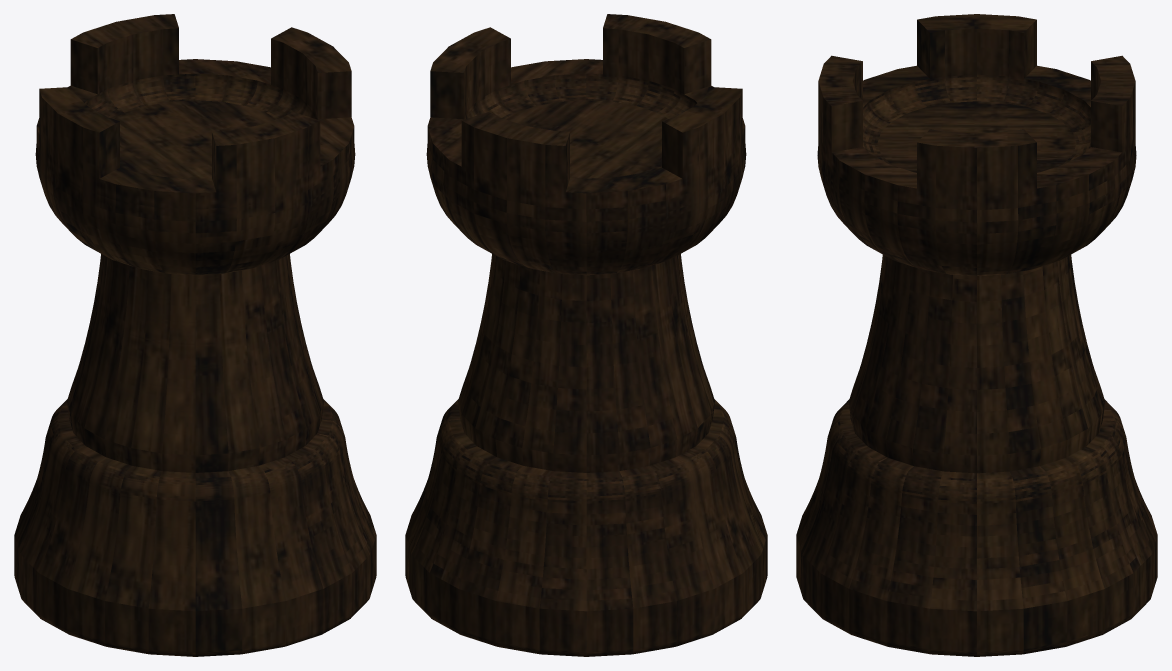
Rendered from Castle_b.dae.
3 renders of one model, left to right at view 1: azimuth 30°, elevation 25°; view 2: azimuth 150°, elevation 25°; view 3: azimuth 270°, elevation 25°, orthographic.
Visible parts, largest first — view 1: SketchUp; view 2: SketchUp; view 3: SketchUp.
Part boxes in pixels (bbox=[...]): SketchUp: bbox=[14, 14, 376, 656]; SketchUp: bbox=[405, 14, 767, 656]; SketchUp: bbox=[796, 14, 1157, 656].
Size of the model in its own units: 26.91 by 26.91 by 41.15.
1 material, 1 textured.
